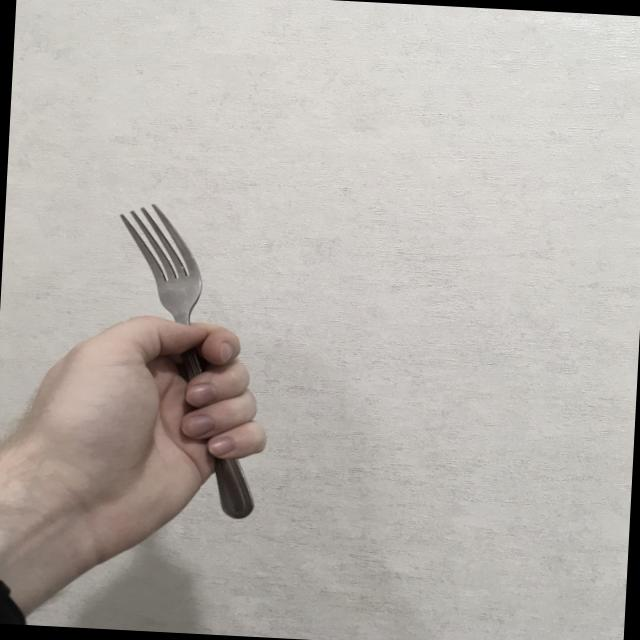fork: (104, 201, 272, 521)
